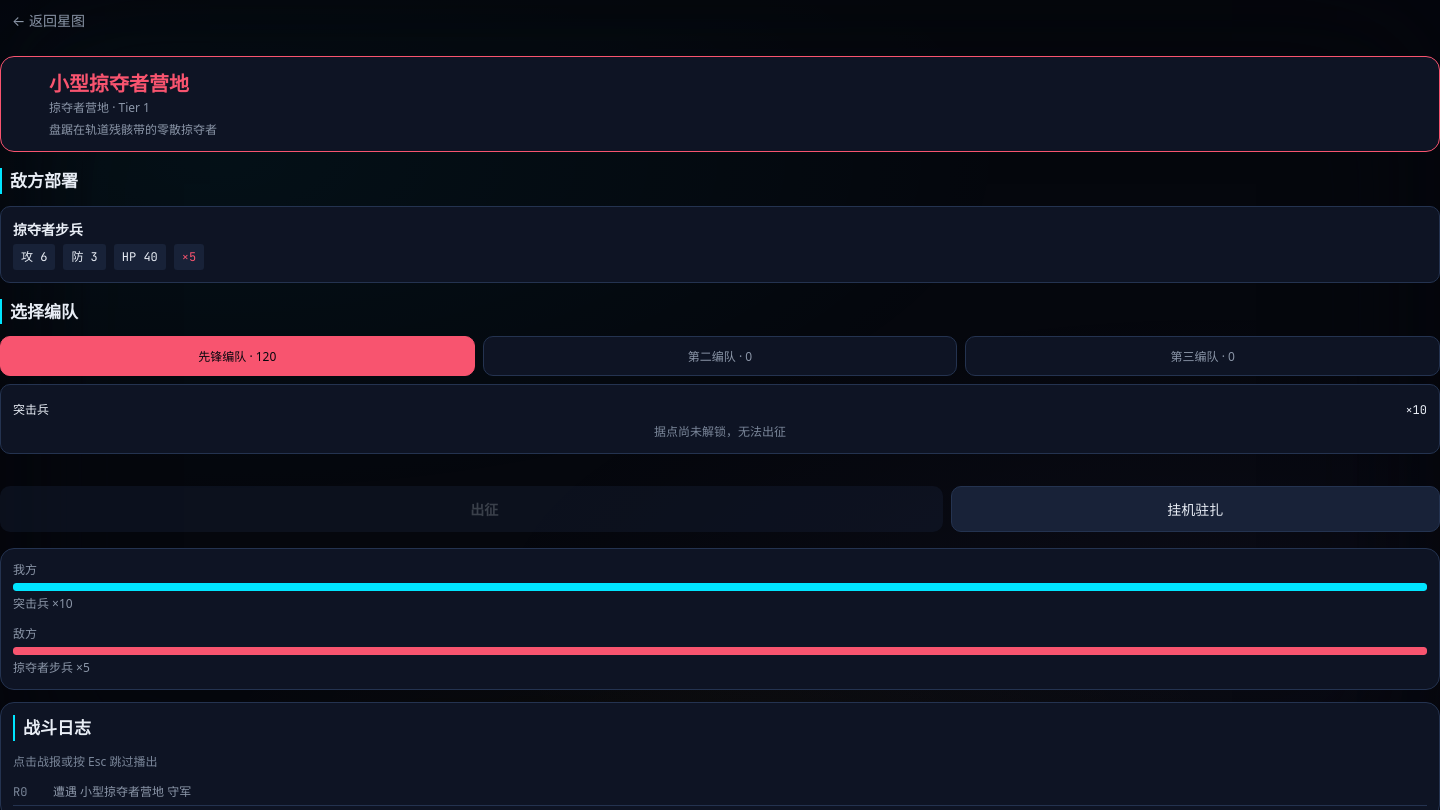
Test: BattleView — 对阵舞台血条回放（v1.65） › 点击舞台跳过播出：立即补全并弹出结果弹窗
This screenshot has width=1440, height=810.
Click the element with test id "battle-stage" at (720, 619), box [0,548,1439,690]
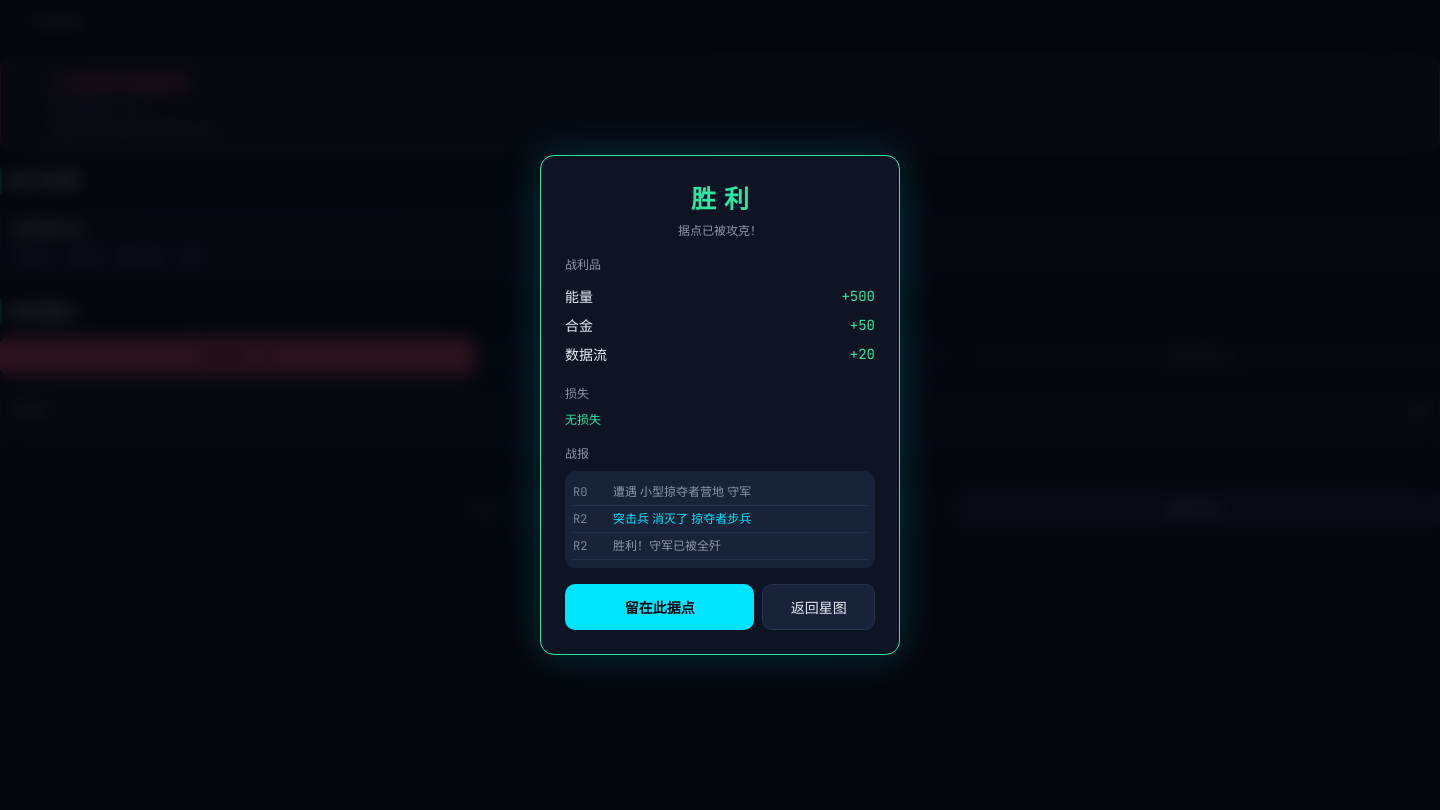
Now the element with class "modal-overlay" is shown
